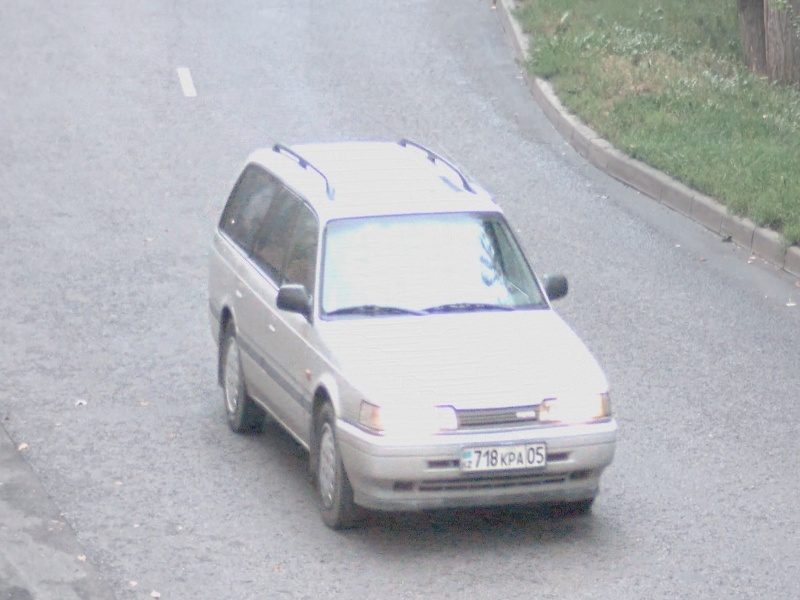plate: (457, 440, 548, 475)
